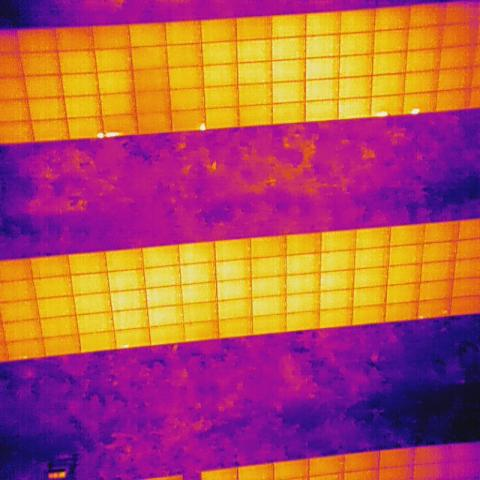fault: (374, 110, 389, 118), (105, 131, 121, 138), (200, 120, 206, 132), (95, 131, 103, 140), (410, 107, 419, 114)
